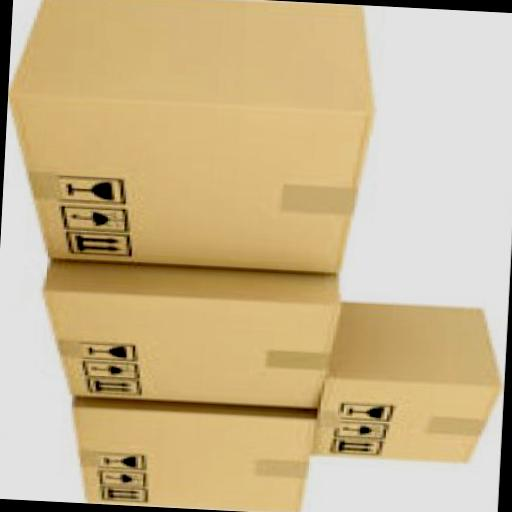cardboard: (2, 0, 385, 275), (38, 256, 350, 410), (316, 294, 509, 464), (70, 394, 324, 512)
